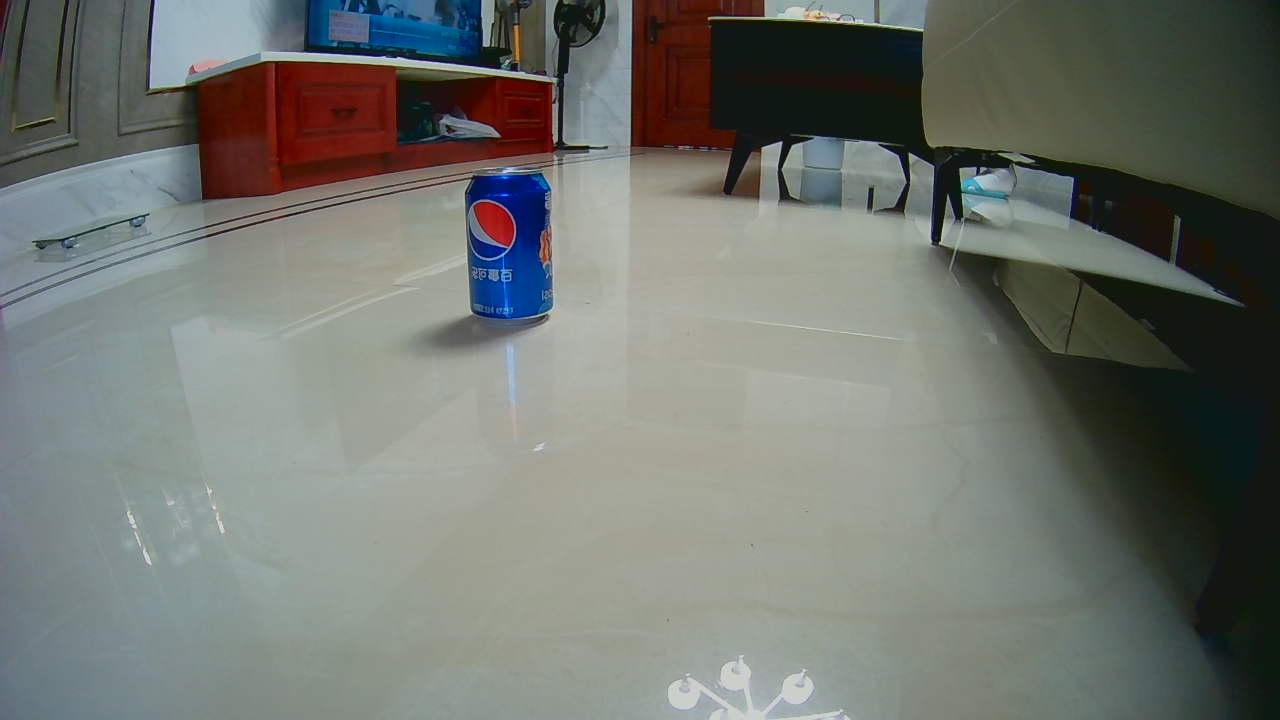pessi: (467, 170, 555, 318)
